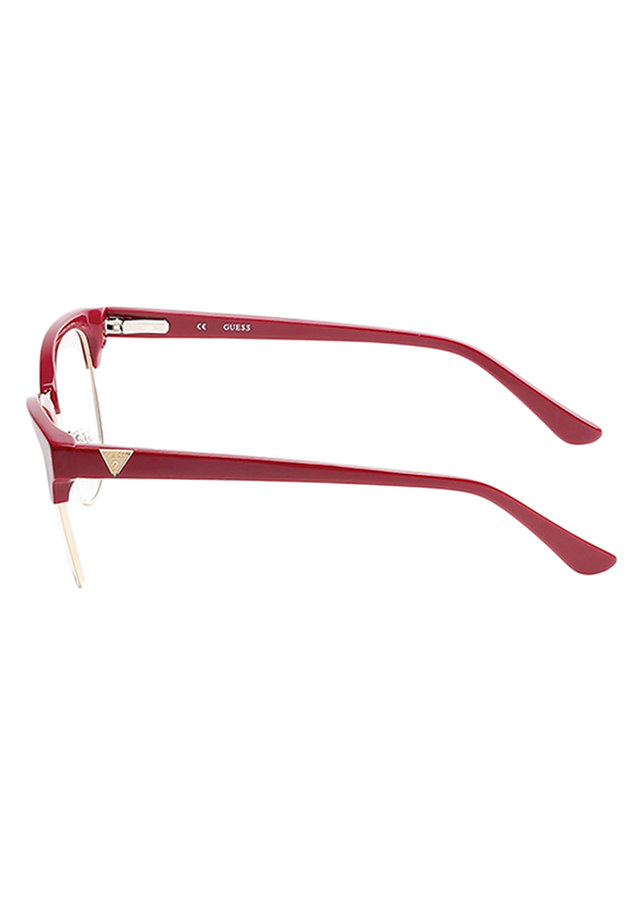Guess: (214, 314, 257, 339)
